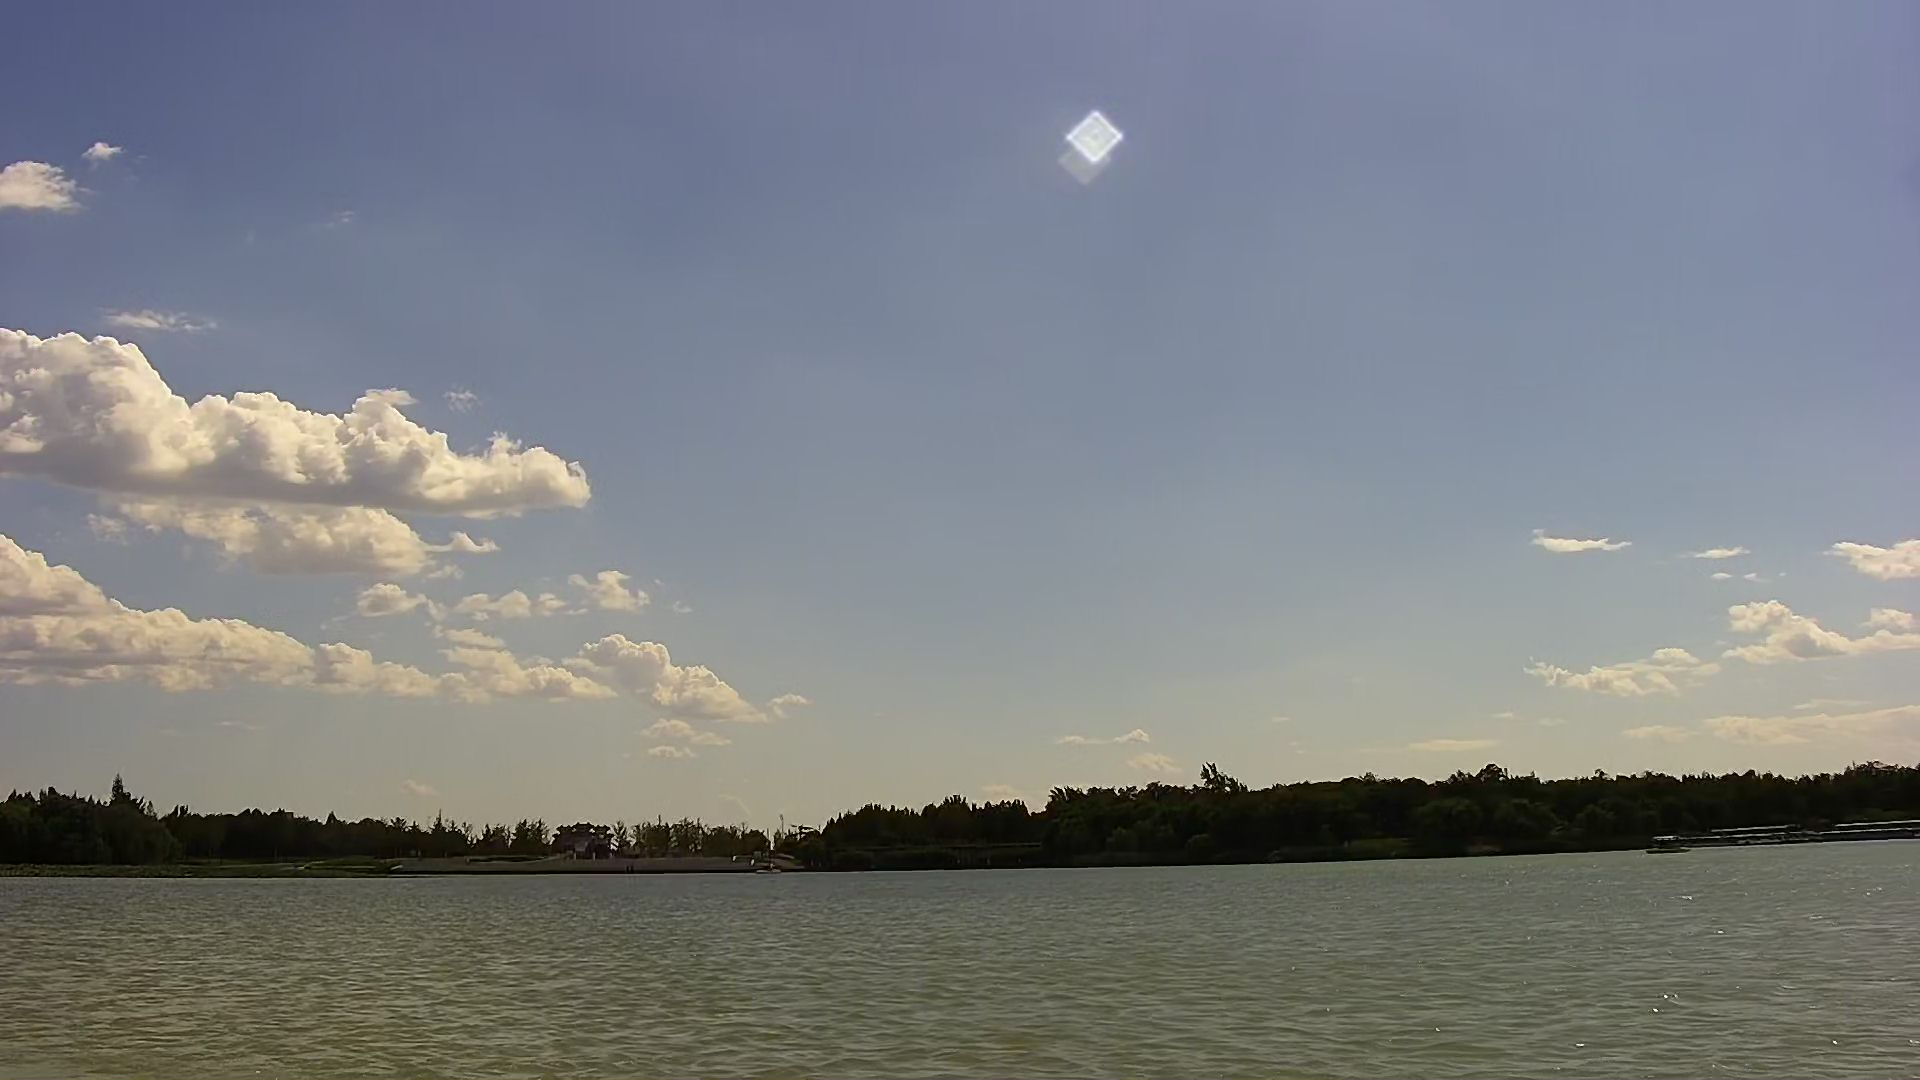boat: (1647, 829, 1677, 851)
harbor: (1712, 818, 1916, 849)
